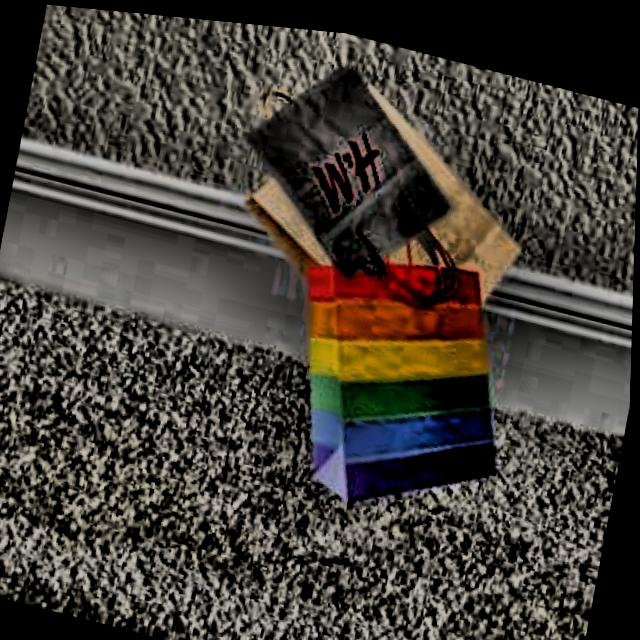Paper-bag: (230, 48, 548, 380), (267, 211, 543, 532), (229, 44, 473, 292)
